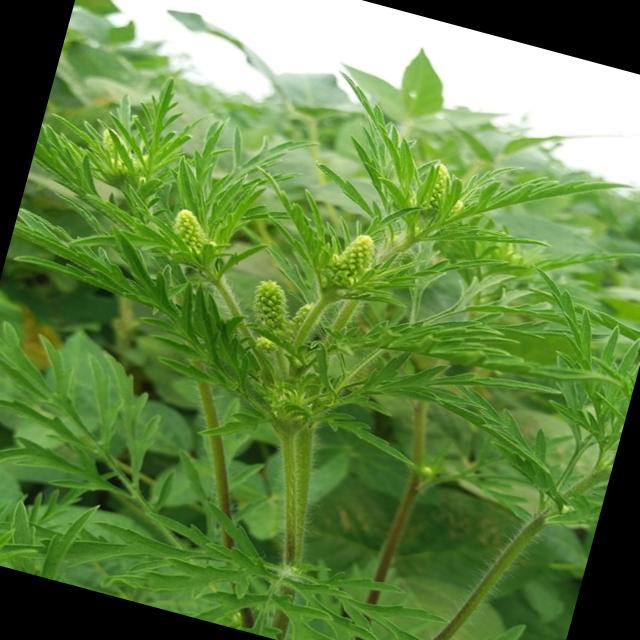ambrosia: (46, 68, 536, 482)
